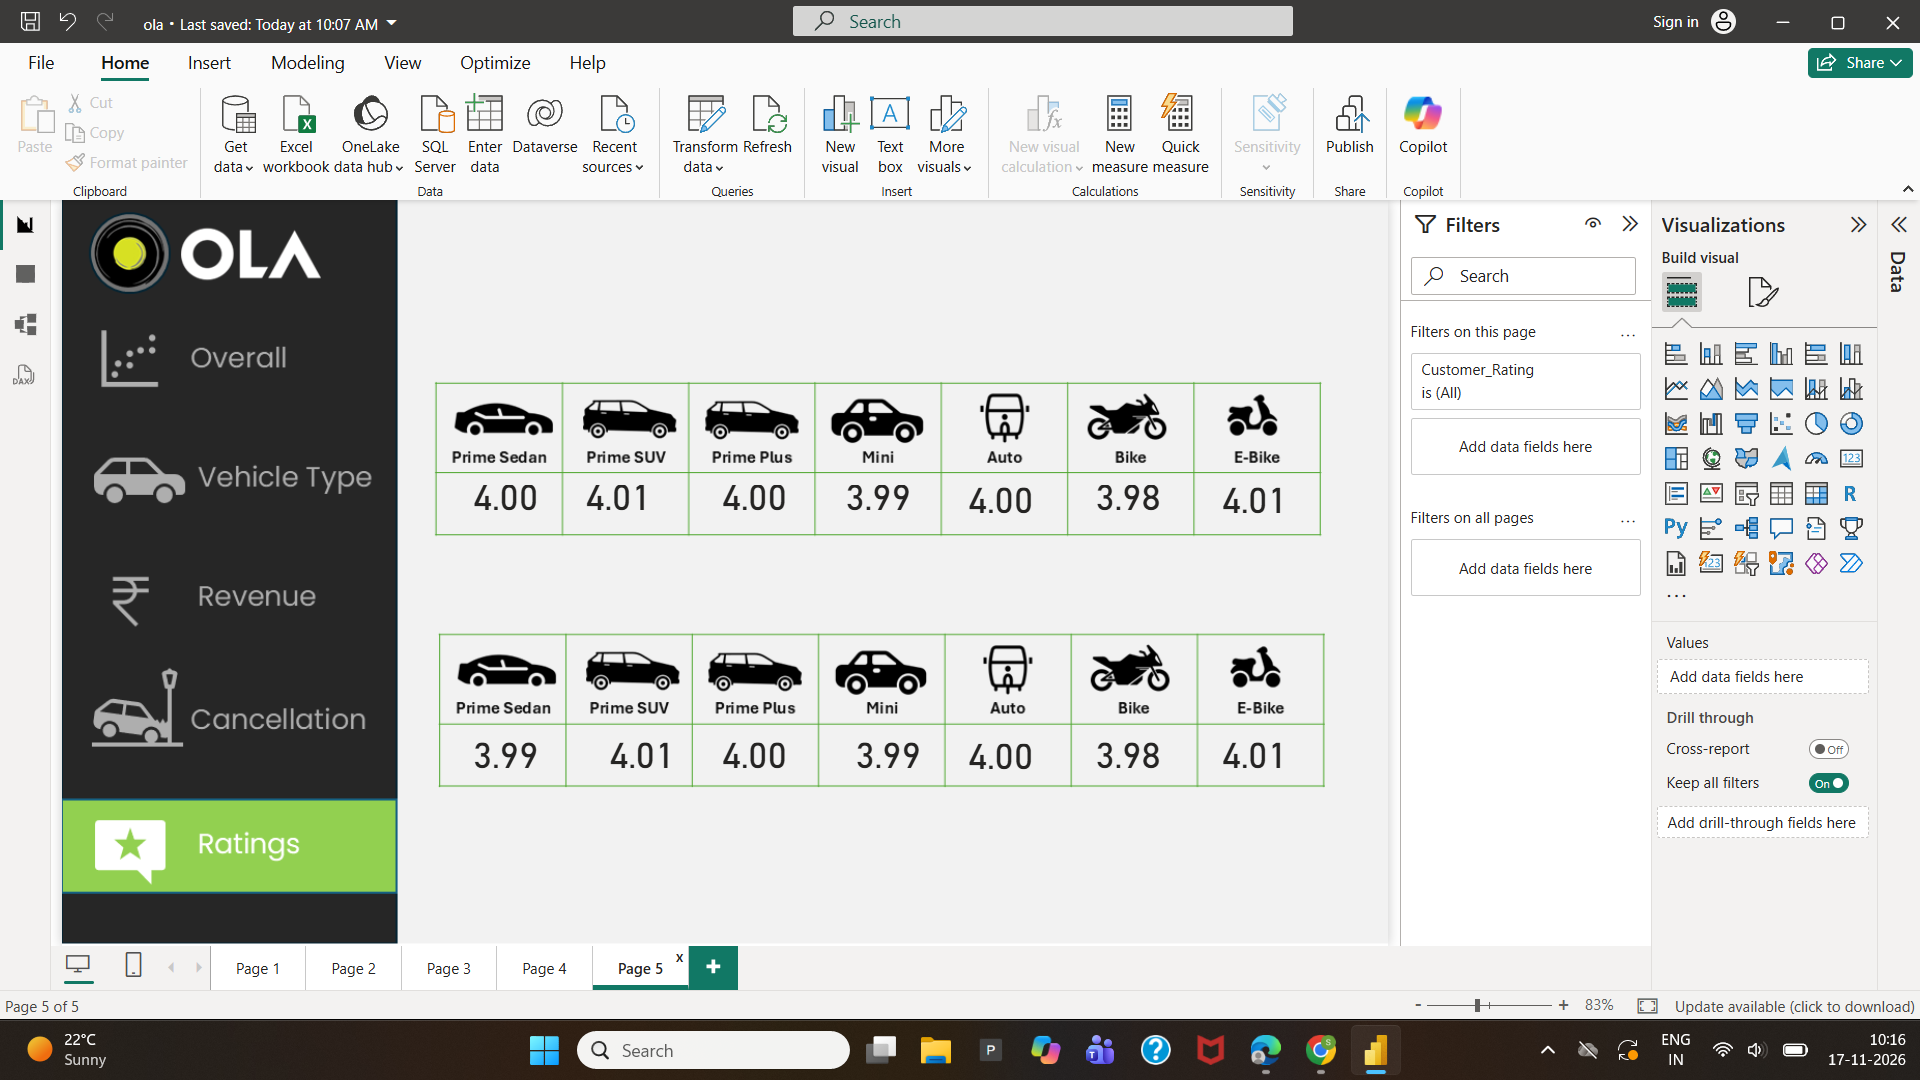

The dashboard page shown, as its layout file describes it:
{"tool":"powerbi","page":{"name":"Page 5","canvas":[1280,720],"ordinal":4},"visuals":[{"type":"card","fields":{"Values":["Avg(Bookings-July.Driver_Ratings)"]},"box":[373.8,270.7,108.8,50.1],"z":0},{"type":"card","fields":{"Values":["Avg(Bookings-July.Driver_Ratings)"]},"box":[733.2,270.7,108.8,50.1],"z":1000},{"type":"card","fields":{"Values":["Avg(Bookings-July.Driver_Ratings)"]},"box":[482.6,270.7,108.8,50.1],"z":2000},{"type":"card","fields":{"Values":["Avg(Bookings-July.Driver_Ratings)"]},"box":[614.4,270.7,108.8,50.1],"z":3000},{"type":"card","fields":{"Values":["Avg(Bookings-July.Driver_Ratings)"]},"box":[1097,272.1,108.8,50.1],"z":4000},{"type":"card","fields":{"Values":["Avg(Bookings-July.Driver_Ratings)"]},"box":[975.3,270.7,108.8,50.1],"z":5000},{"type":"card","fields":{"Values":["Avg(Bookings-July.Driver_Ratings)"]},"box":[852.1,272.1,108.8,50.1],"z":6000},{"type":"card","fields":{"Values":["Avg(Bookings-July.Driver_Ratings)"]},"box":[505.5,518.4,108.8,50.1],"z":7000},{"type":"card","fields":{"Values":["Avg(Bookings-July.Driver_Ratings)"]},"box":[373.8,518.4,108.8,50.1],"z":8000},{"type":"card","fields":{"Values":["Avg(Bookings-July.Driver_Ratings)"]},"box":[614.4,518.4,108.8,50.1],"z":9000},{"type":"card","fields":{"Values":["Avg(Bookings-July.Driver_Ratings)"]},"box":[743.3,518.4,108.8,50.1],"z":10000},{"type":"card","fields":{"Values":["Avg(Bookings-July.Driver_Ratings)"]},"box":[975.3,518.4,108.8,50.1],"z":11000},{"type":"card","fields":{"Values":["Avg(Bookings-July.Driver_Ratings)"]},"box":[852.1,519.8,108.8,50.1],"z":12000},{"type":"card","fields":{"Values":["Avg(Bookings-July.Driver_Ratings)"]},"box":[1097,518.4,108.8,50.1],"z":13000}]}

Visuals, with their boxes on the page's 1280x720 design canvas (x1, y1, x2, y2). These are canvas units, not pixel positions in the 1920x1080 screenshot, which may show the page scaled, cropped or inside an application window:
card - Avg(Bookings-July.Driver_Ratings): <bbox>374, 271, 483, 321</bbox>
card - Avg(Bookings-July.Driver_Ratings): <bbox>733, 271, 842, 321</bbox>
card - Avg(Bookings-July.Driver_Ratings): <bbox>483, 271, 591, 321</bbox>
card - Avg(Bookings-July.Driver_Ratings): <bbox>614, 271, 723, 321</bbox>
card - Avg(Bookings-July.Driver_Ratings): <bbox>1097, 272, 1206, 322</bbox>
card - Avg(Bookings-July.Driver_Ratings): <bbox>975, 271, 1084, 321</bbox>
card - Avg(Bookings-July.Driver_Ratings): <bbox>852, 272, 961, 322</bbox>
card - Avg(Bookings-July.Driver_Ratings): <bbox>506, 518, 614, 568</bbox>
card - Avg(Bookings-July.Driver_Ratings): <bbox>374, 518, 483, 568</bbox>
card - Avg(Bookings-July.Driver_Ratings): <bbox>614, 518, 723, 568</bbox>
card - Avg(Bookings-July.Driver_Ratings): <bbox>743, 518, 852, 568</bbox>
card - Avg(Bookings-July.Driver_Ratings): <bbox>975, 518, 1084, 568</bbox>
card - Avg(Bookings-July.Driver_Ratings): <bbox>852, 520, 961, 570</bbox>
card - Avg(Bookings-July.Driver_Ratings): <bbox>1097, 518, 1206, 568</bbox>
